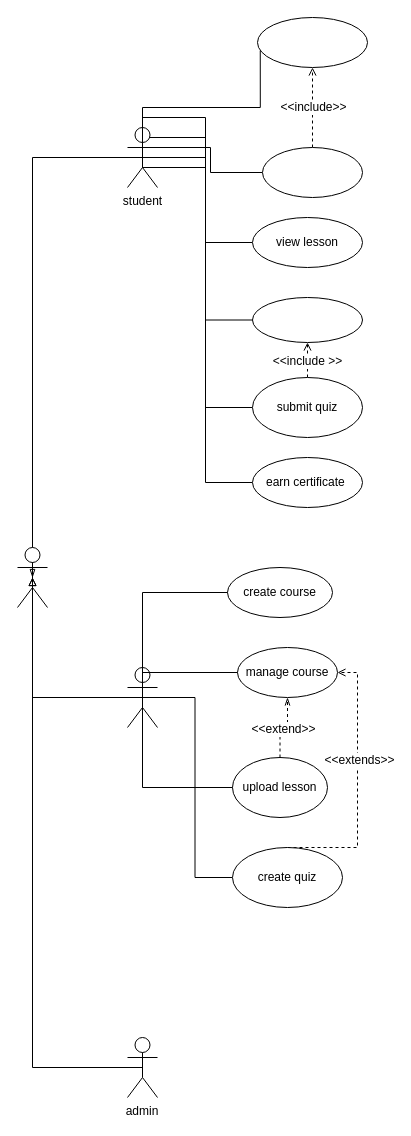
Some shapes in this 411 by 1136 pixel diagram are drawn without their labels. Each missing label, with the box of its shape:
browse courses: (256, 16, 368, 68)
enroll in course: (262, 146, 362, 198)
instructor: (126, 666, 158, 728)
take quiz: (252, 296, 362, 342)
user: (16, 546, 48, 608)
